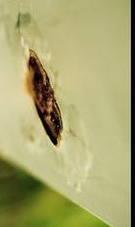Corrosion: (22, 48, 64, 147)
